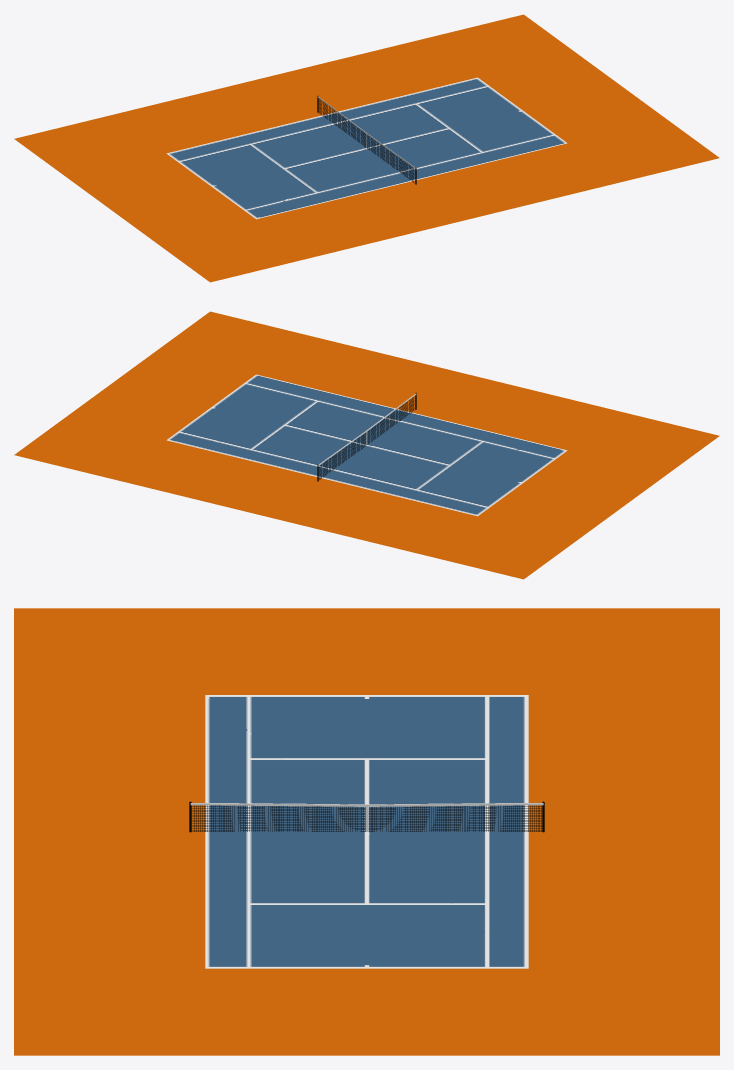
The model's file is TennisCourt.fbx.
3 views of the same model, one above another, from view 1: azimuth 30°, elevation 25°; view 2: azimuth 150°, elevation 25°; view 3: azimuth 270°, elevation 25° (orthographic). The views are drawn at different scales.
Parts seen in each view (by area): view 1: Plane.001; view 2: Plane.001; view 3: Plane.001.
Boxes of the visible parts, <box> form: Plane.001: <box>14,14,719,282</box>; Plane.001: <box>14,311,719,579</box>; Plane.001: <box>14,608,719,1055</box>.
Size of the model in its own units: 3600 by 116 by 2400.
